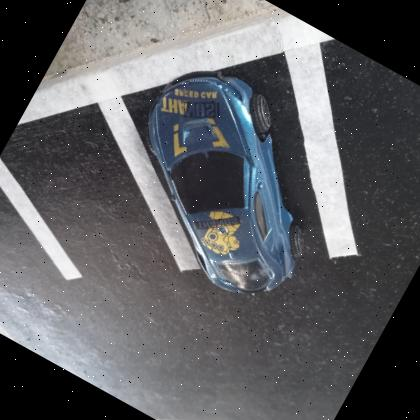Car: (92, 51, 363, 316)
